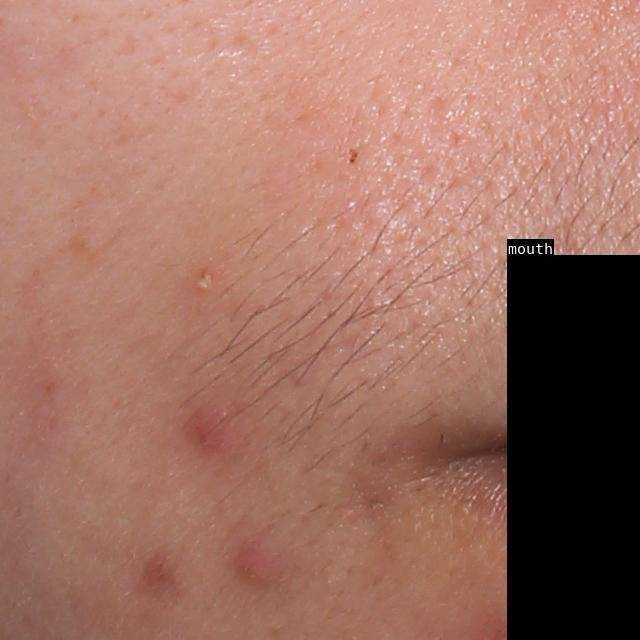papule: (186, 405, 239, 458), (233, 548, 294, 590)
